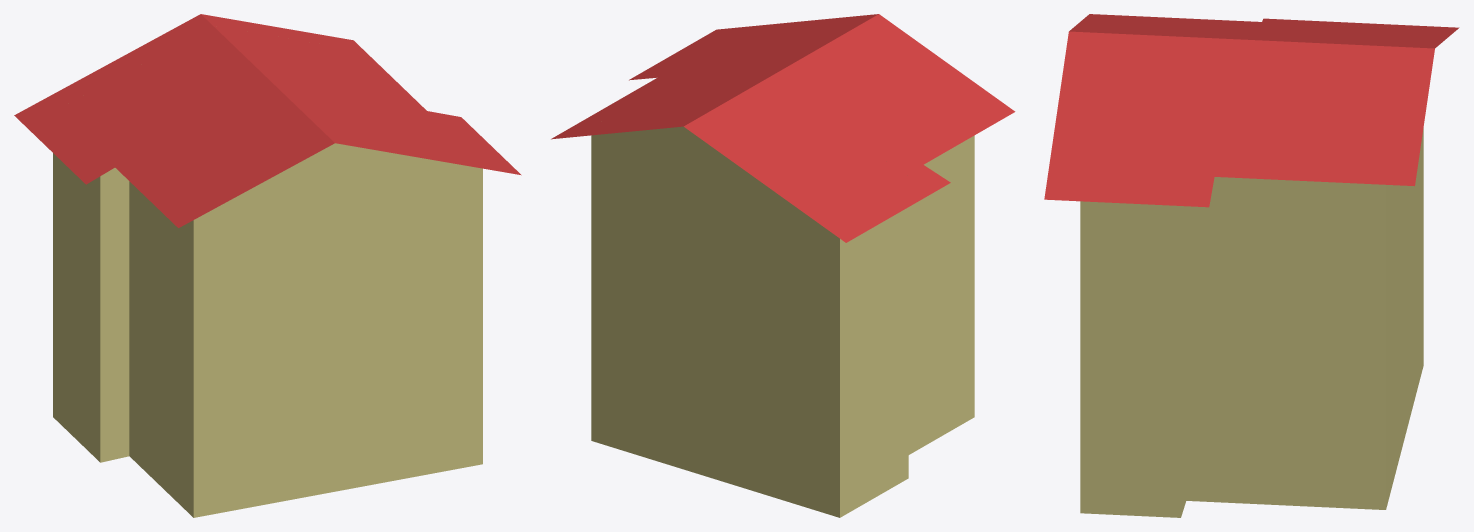
3 views of the same model, side by side, from view 1: azimuth 30°, elevation 25°; view 2: azimuth 150°, elevation 25°; view 3: azimuth 270°, elevation 25° (orthographic). The views are drawn at different scales.
Visible parts, largest first — view 1: group_5, group_3, group_4; view 2: group_5, group_3, group_4; view 3: group_5, group_3, group_4.
Boxes of the visible parts, bbox=[...] form: group_5: bbox=[53, 143, 482, 517]; group_3: bbox=[53, 14, 521, 227]; group_4: bbox=[14, 14, 461, 184]; group_5: bbox=[591, 126, 974, 517]; group_3: bbox=[592, 14, 1015, 233]; group_4: bbox=[551, 14, 950, 242]; group_5: bbox=[1080, 128, 1423, 517]; group_3: bbox=[1044, 14, 1434, 207]; group_4: bbox=[1062, 18, 1459, 206].
Size of the model in its own units: 13.67 by 12.71 by 13.49.
